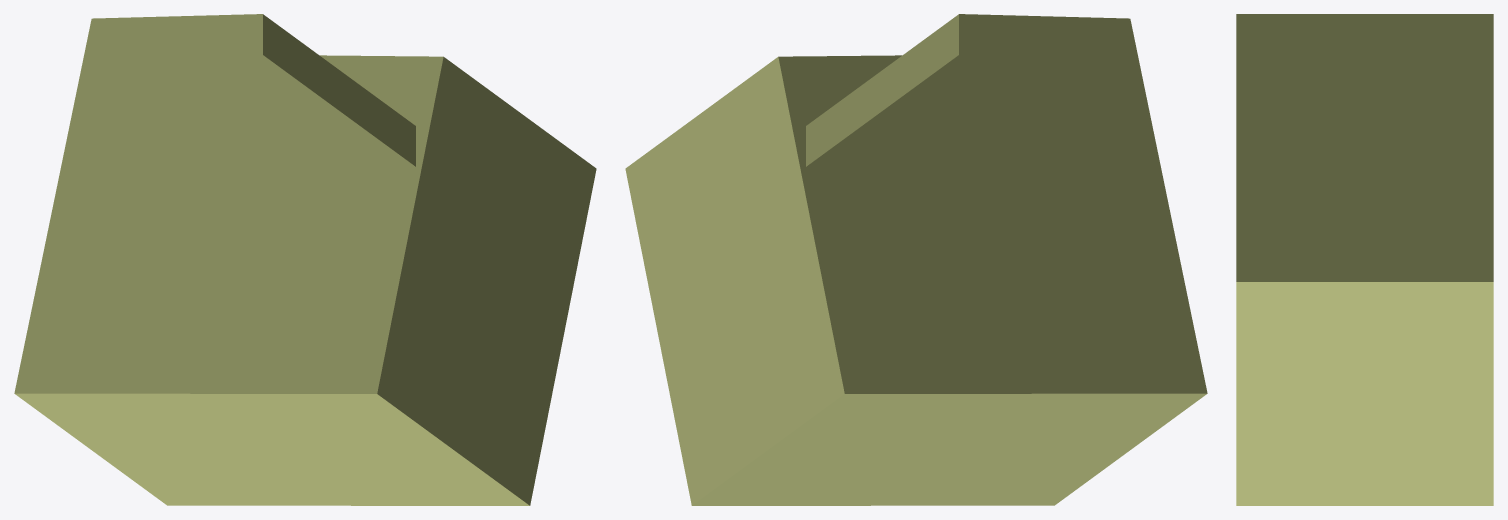
3 views of the same model, side by side, from view 1: azimuth 30°, elevation 25°; view 2: azimuth 150°, elevation 25°; view 3: azimuth 270°, elevation 25° (orthographic). The views are drawn at different scales.
Visible parts, largest first — view 1: 0_1_1_3_3_1_0_2_0_2; view 2: 0_1_1_3_3_1_0_2_0_2; view 3: 0_1_1_3_3_1_0_2_0_2.
Part boxes in pixels (left/top/right/bottom): 0_1_1_3_3_1_0_2_0_2: left=14, top=14, right=596, bottom=505; 0_1_1_3_3_1_0_2_0_2: left=625, top=14, right=1207, bottom=505; 0_1_1_3_3_1_0_2_0_2: left=1236, top=14, right=1493, bottom=505.
Bounding box in the file's own units: 9.72 × 9.63 × 6.
